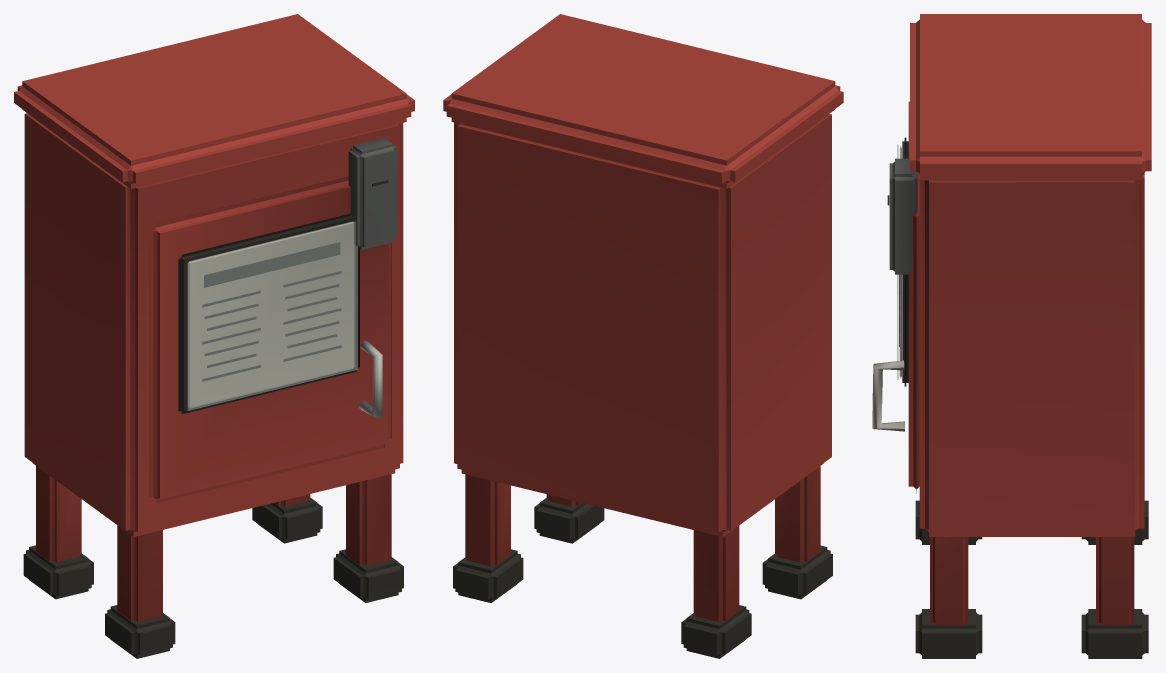
File: corner-news-vendor.glb
The picture shows the model from 3 angles, left to right: view 1: azimuth 30°, elevation 25°; view 2: azimuth 150°, elevation 25°; view 3: azimuth 270°, elevation 25°; orthographic projection. The views are drawn at different scales.
Parts seen in each view (by area): view 1: Frame; view 2: Frame; view 3: Frame.
Boxes of the visible parts, x1=… form: Frame: x1=14, y1=14, x2=414, y2=658; Frame: x1=443, y1=14, x2=843, y2=658; Frame: x1=872, y1=14, x2=1151, y2=658.
Size of the model in its own units: 0.593 by 0.9705 by 0.4812.
